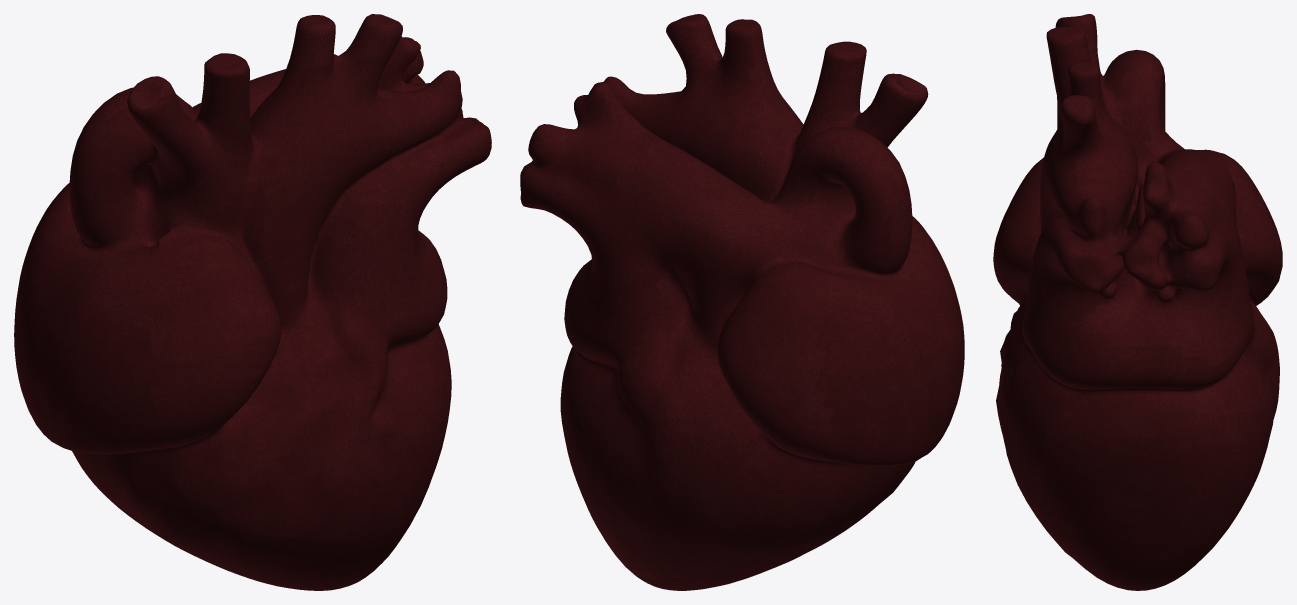
Rendered from the_heart.glb.
The picture shows the model from 3 angles, left to right: view 1: azimuth 30°, elevation 25°; view 2: azimuth 150°, elevation 25°; view 3: azimuth 270°, elevation 25°; orthographic projection. The views are drawn at different scales.
Parts seen in each view (by area): view 1: Object_2; view 2: Object_2; view 3: Object_2.
Boxes of the visible parts, x1=… form: Object_2: x1=14, y1=14, x2=491, y2=590; Object_2: x1=520, y1=14, x2=964, y2=590; Object_2: x1=993, y1=14, x2=1282, y2=590.
Size of the model in its own units: 2.26 by 2.95 by 1.53.
Materials: 1 (1 with a texture image).
